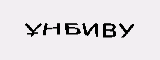Б: (63, 20, 80, 36)
В: (102, 22, 117, 38)
И: (81, 21, 99, 38)
Н: (42, 22, 61, 37)
У: (116, 20, 136, 39)
Ұ: (22, 22, 42, 39)
